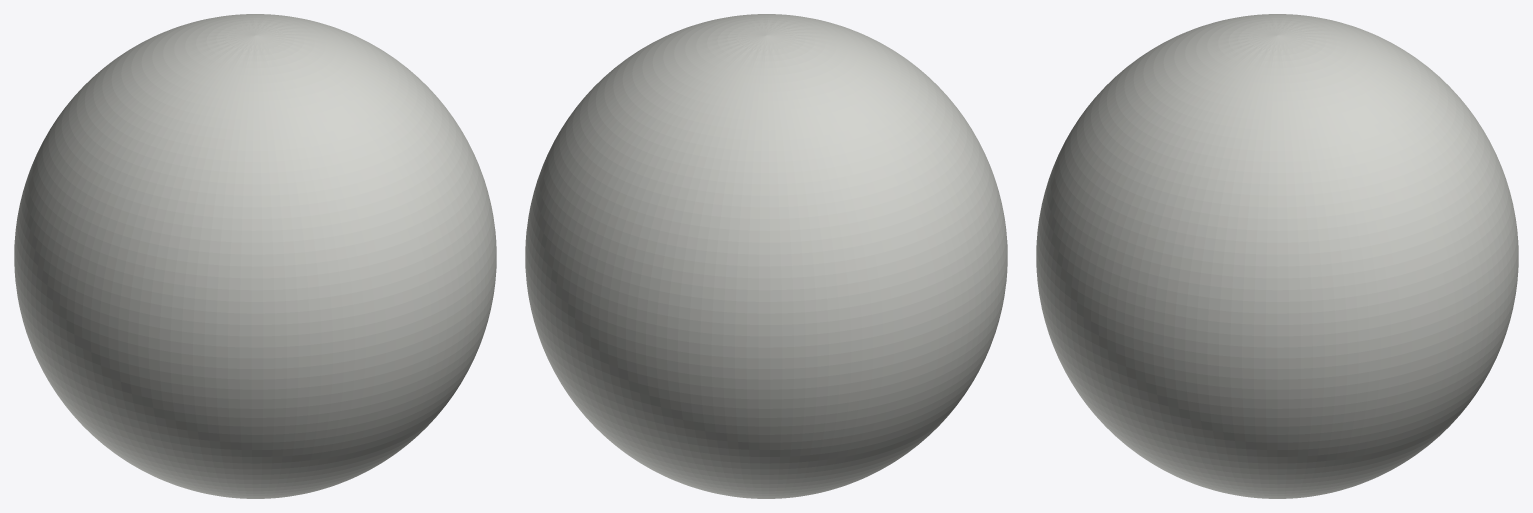
File: ball.obj
The picture shows the model from 3 angles, left to right: view 1: azimuth 30°, elevation 25°; view 2: azimuth 150°, elevation 25°; view 3: azimuth 270°, elevation 25°; orthographic projection.
Visible parts, largest first — view 1: Sphere; view 2: Sphere; view 3: Sphere.
Part boxes in pixels (x1,y1,x2,y2): Sphere: (14, 14, 496, 498); Sphere: (525, 14, 1007, 498); Sphere: (1036, 14, 1518, 498).
Size of the model in its own units: 0.7904 by 0.7987 by 0.7904.
